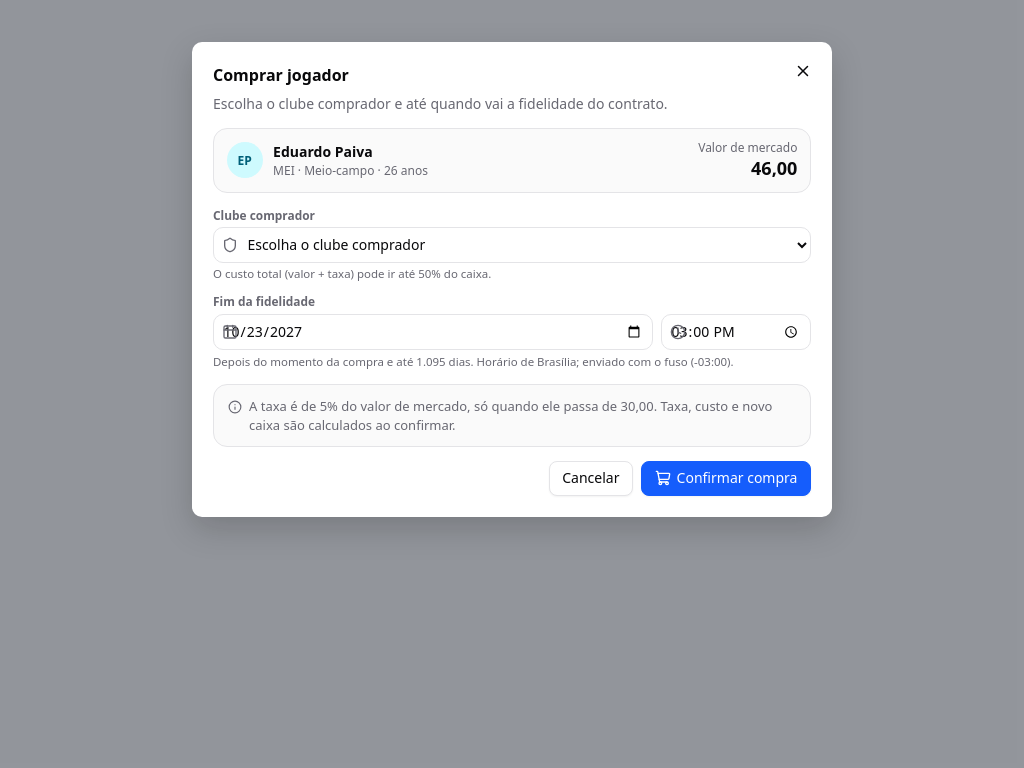
it: BuyPlayerModal › mostra a recusa da API dentro da janela, sem fechá-la
Select "Águias FC (AGU) · caixa 300,00" in the dropdown labelled "Clube comprador" at (512, 245), box [213,227,811,263]
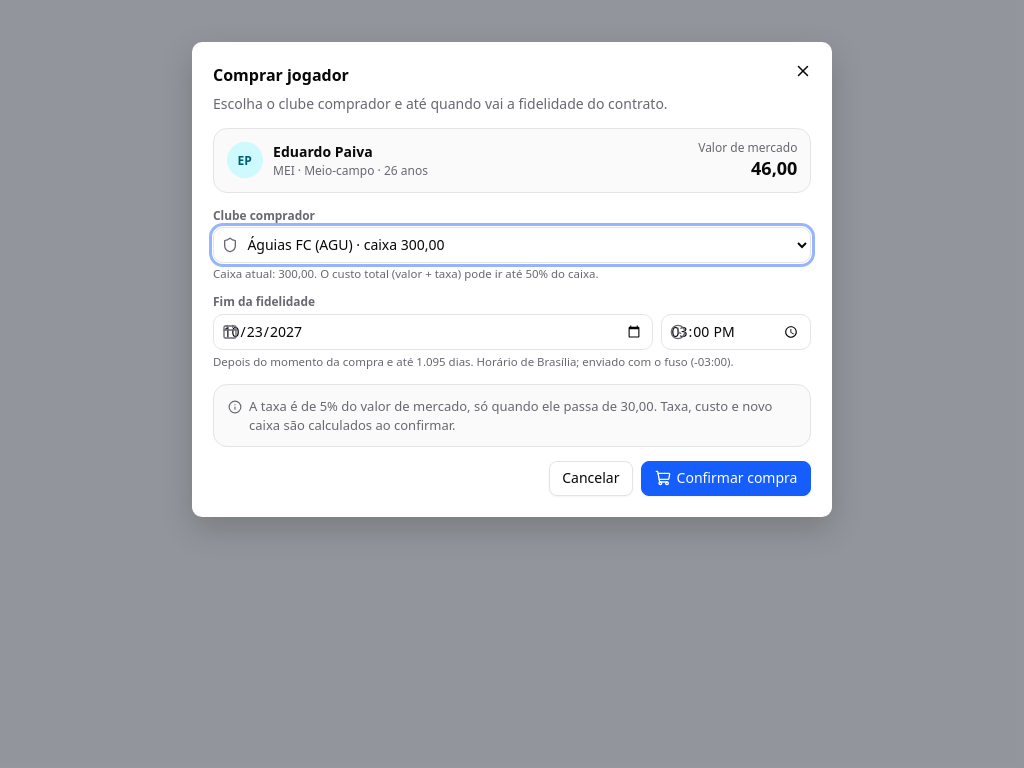
Click the button "Confirmar compra" at (726, 478), box [641,461,811,496]
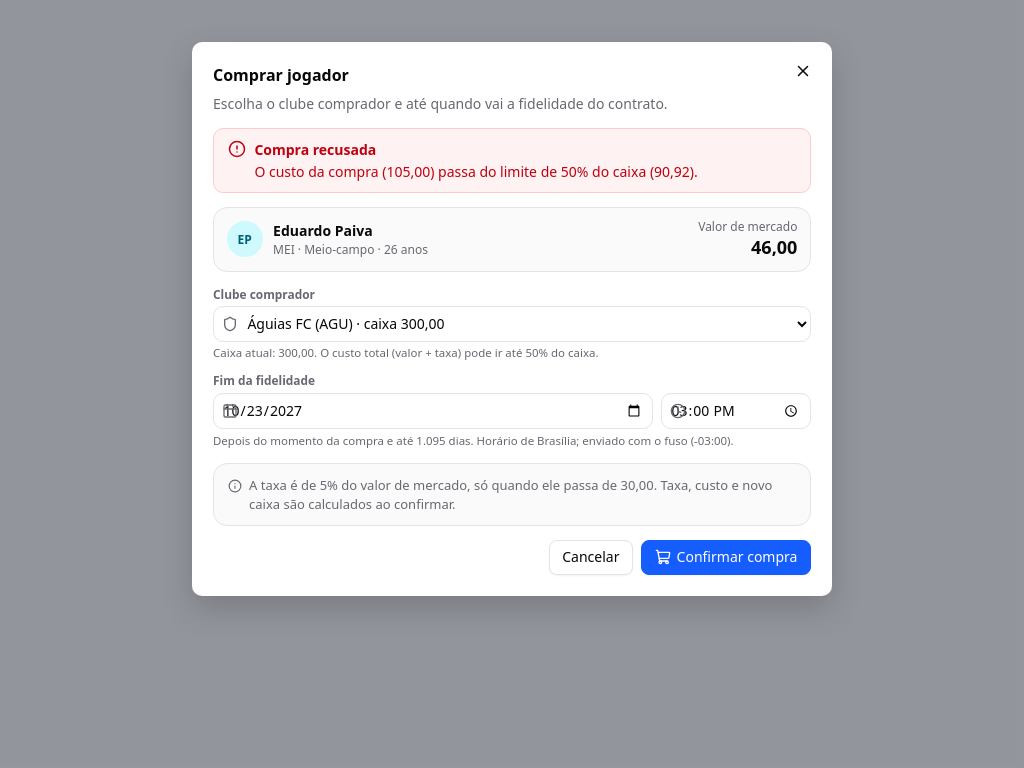
Expected: the text "Compra recusada" is shown, [254,140,376,158]
Expected: the text "passa do limite de 50% do caixa" is shown, [254,162,698,181]
